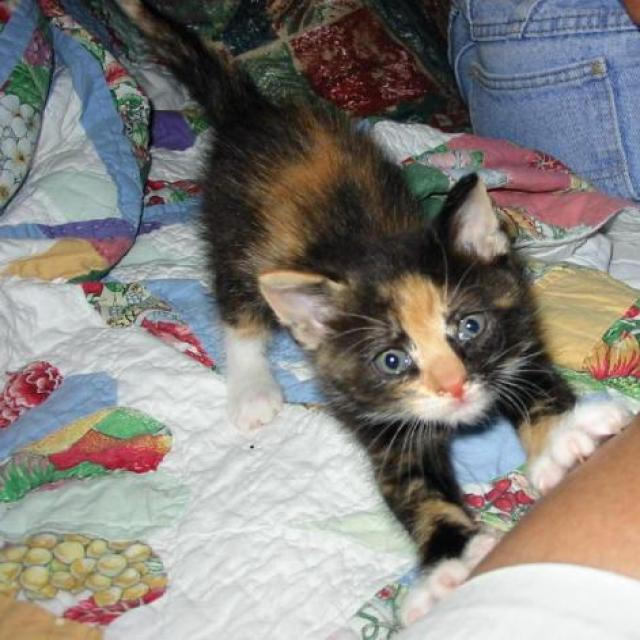Cats: (101, 0, 637, 626)
